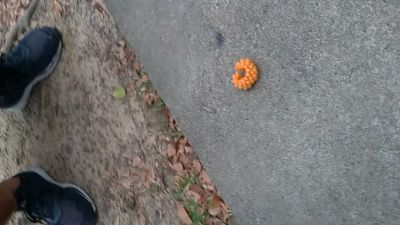eggs: (231, 58, 259, 91)
